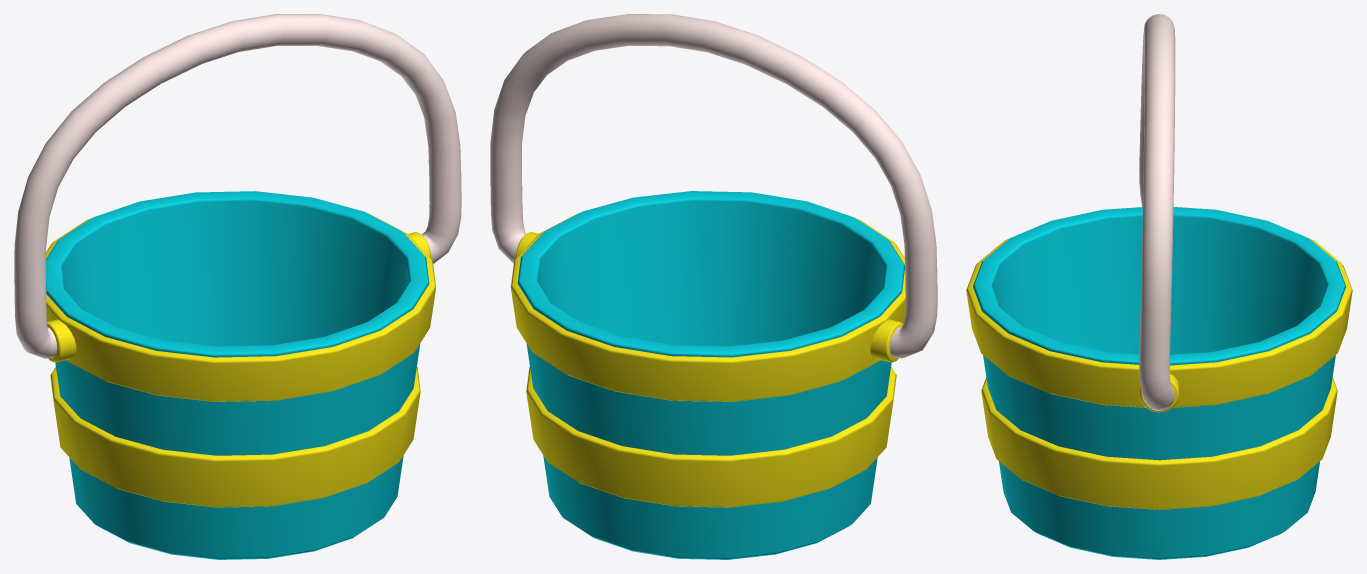
Rendered from Public_13_Bucket_1.glb.
3 renders of one model, left to right at view 1: azimuth 30°, elevation 25°; view 2: azimuth 150°, elevation 25°; view 3: azimuth 270°, elevation 25°, orthographic. The views are drawn at different scales.
Parts seen in each view (by area): view 1: Public_13_Bucket_1; view 2: Public_13_Bucket_1; view 3: Public_13_Bucket_1.
Part boxes in pixels (x1,y1,x2,y2): Public_13_Bucket_1: (14,14,461,559); Public_13_Bucket_1: (490,14,937,559); Public_13_Bucket_1: (966,14,1352,559).
Size of the model in its own units: 1.05 by 1.07 by 0.8314.
1 material, 1 textured.
